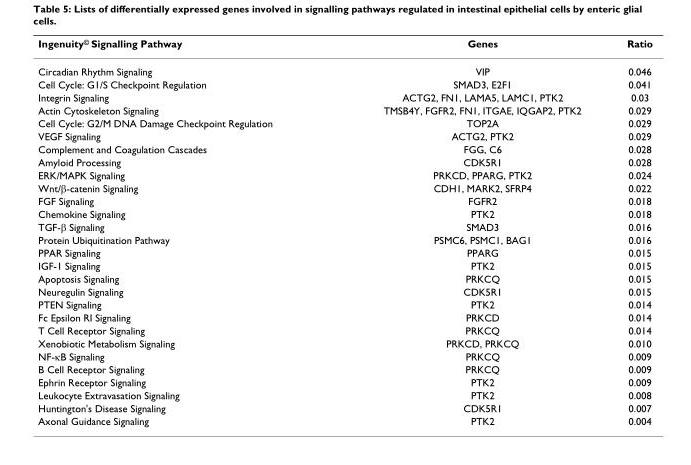table: (37, 36, 652, 426)
table column: (37, 36, 327, 426), (327, 36, 603, 426), (603, 36, 652, 426)
table column header: (37, 36, 652, 57)
table row: (37, 36, 652, 57), (37, 57, 652, 77), (37, 180, 652, 194), (37, 348, 652, 362), (37, 77, 652, 90), (37, 90, 652, 103), (37, 103, 652, 116), (37, 116, 652, 129), (37, 129, 652, 142), (37, 142, 652, 155), (37, 155, 652, 168), (37, 206, 652, 219), (37, 219, 652, 232), (37, 232, 652, 245), (37, 245, 652, 258), (37, 258, 652, 271), (37, 271, 652, 284), (37, 284, 652, 297), (37, 297, 652, 310), (37, 310, 652, 323), (37, 323, 652, 336), (37, 362, 652, 375), (37, 375, 652, 388), (37, 388, 652, 401), (37, 401, 652, 414), (37, 168, 652, 180), (37, 194, 652, 206), (37, 336, 652, 348), (37, 414, 652, 426)
